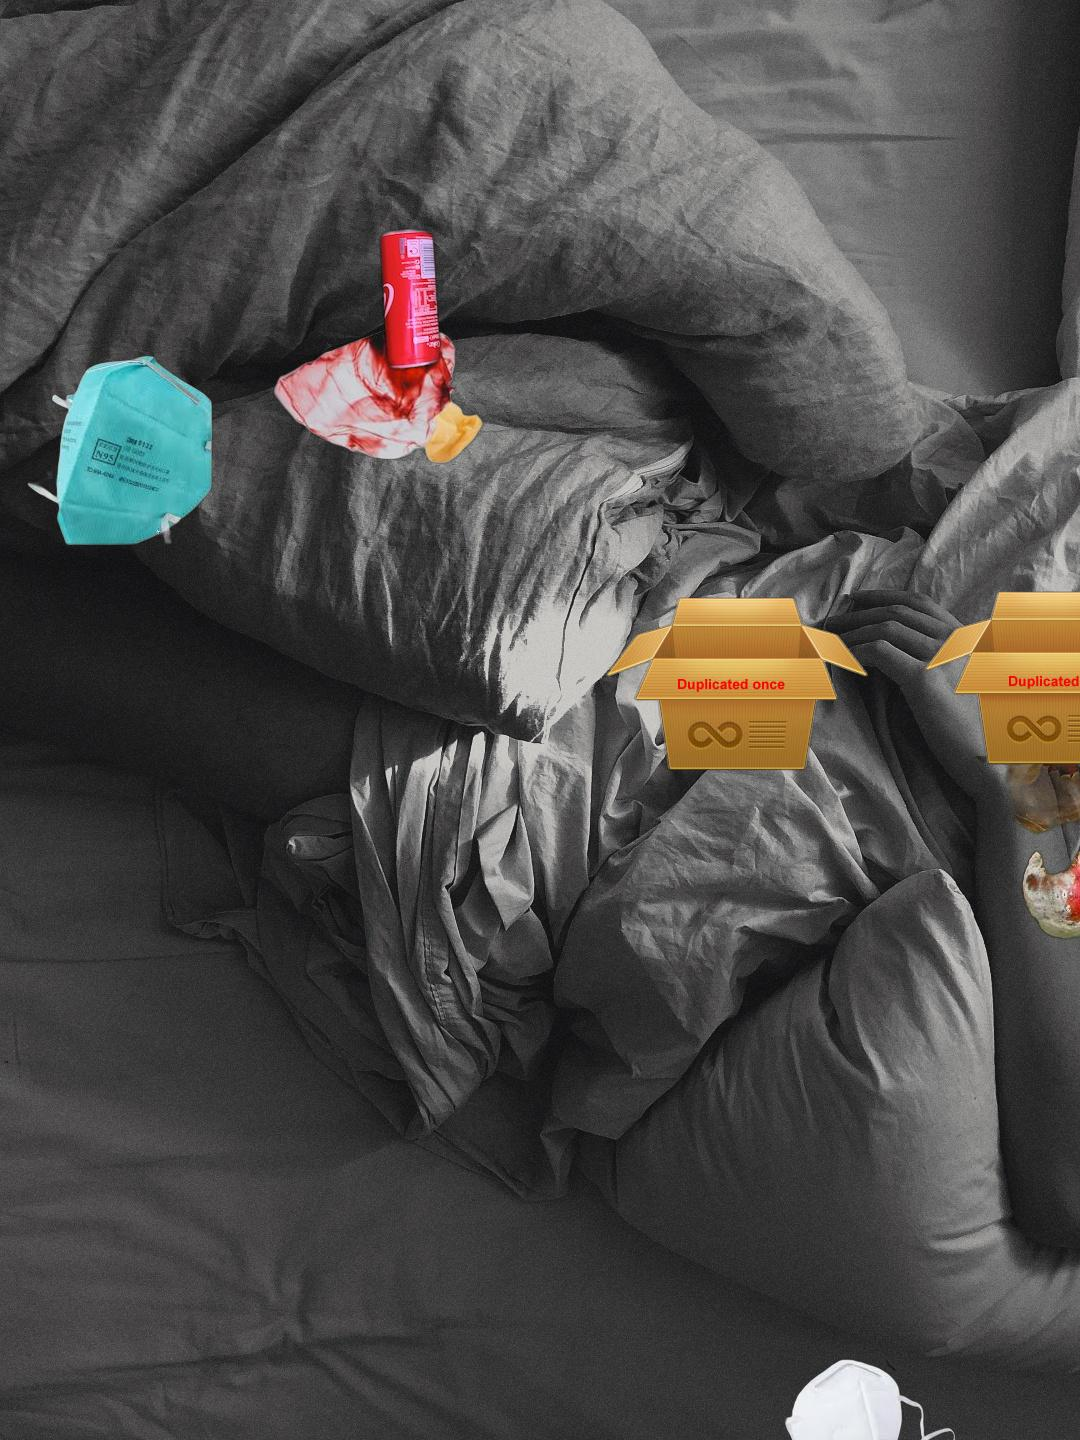biological: (935, 756, 1080, 950)
metal-cans: (376, 222, 446, 375)
plastic-bag: (270, 315, 487, 466)
trash: (25, 353, 216, 545), (761, 1356, 957, 1440)
trashbox-cardboard: (601, 588, 1080, 773)
